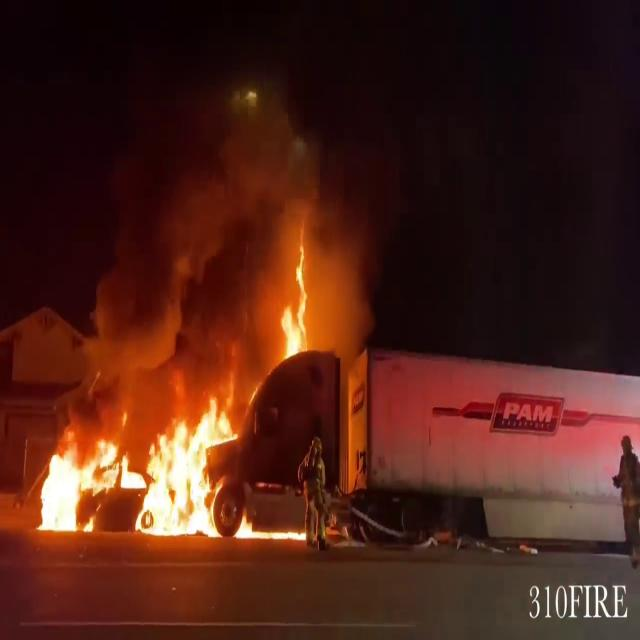Fire: (27, 388, 248, 540), (276, 243, 318, 370)
Smoke: (63, 95, 384, 383)
